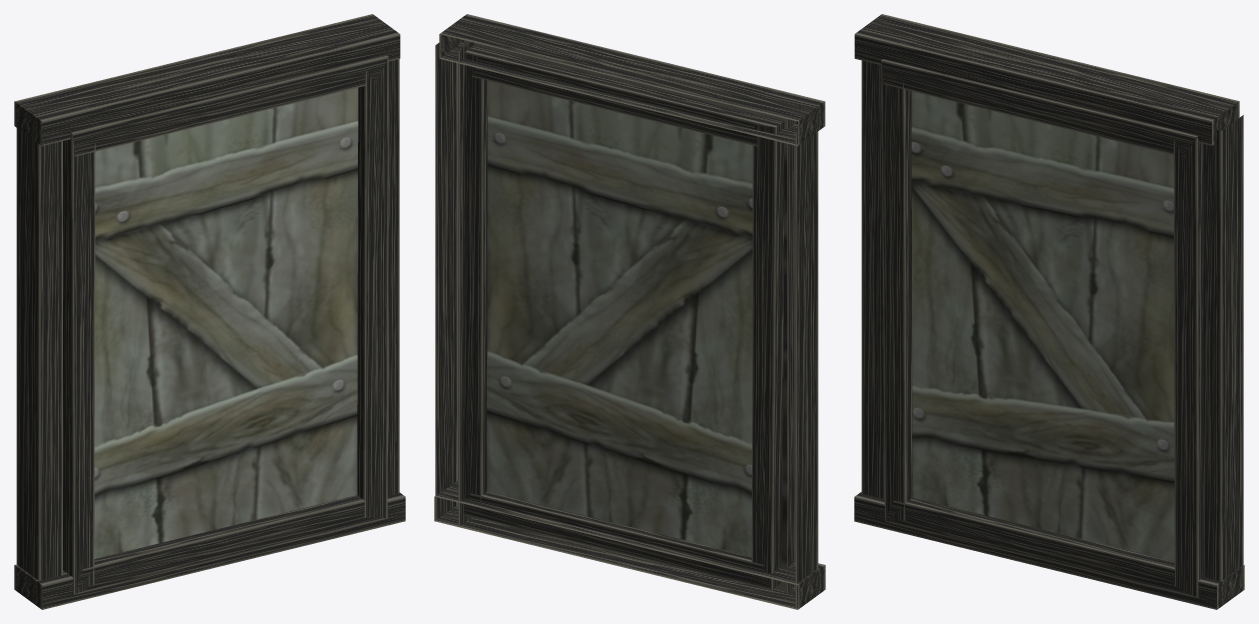
The model's file is shanty_cellar_door.fbx.
The picture shows the model from 3 angles, left to right: view 1: azimuth 30°, elevation 25°; view 2: azimuth 150°, elevation 25°; view 3: azimuth 330°, elevation 25°; orthographic projection.
Parts seen in each view (by area): view 1: door_right, pCube2, pCube1, pCube4, pCube3; view 2: door_right_b, door_right, pCube2, pCube4, pCube1, pCube3; view 3: door_right, pCube4, pCube1, pCube2, pCube3.
Part boxes in pixels (x1,y1,x2,y2): door_right: (63,55,388,594); pCube2: (16,128,62,580); pCube1: (14,14,400,145); pCube4: (387,59,399,495); pCube3: (14,492,405,609); door_right_b: (486,81,752,556); door_right: (458,44,784,590); pCube2: (463,40,818,608); pCube4: (435,39,474,526); pCube1: (439,14,825,146); pCube3: (434,480,825,609); door_right: (881,59,1203,597); pCube4: (1203,115,1243,581); pCube1: (854,14,1239,145); pCube2: (861,60,884,499); pCube3: (854,492,1244,609).
Size of the model in its own units: 872 by 1120 by 123.
Materials: 2 (2 with a texture image).
